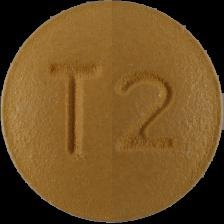0093-7690: (0, 0, 224, 224)
